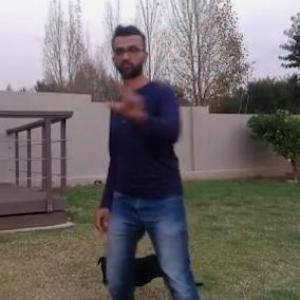land_hand: (104, 61, 144, 122)
